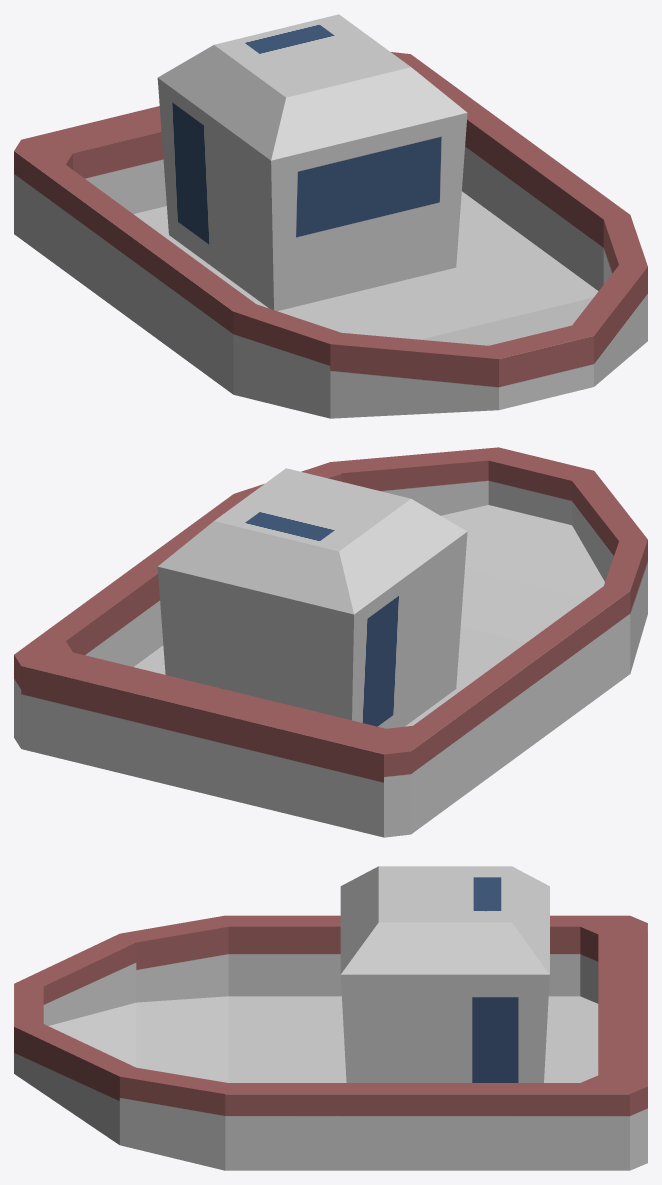
Rendered from Boat.fbx.
3 renders of one model, top to bottom at view 1: azimuth 30°, elevation 25°; view 2: azimuth 150°, elevation 25°; view 3: azimuth 270°, elevation 25°, orthographic. The views are drawn at different scales.
Visible parts, largest first — view 1: Boat; view 2: Boat; view 3: Boat.
Boxes of the visible parts, left/top/right/bottom form: Boat: left=14, top=14, right=647, bottom=418; Boat: left=14, top=447, right=647, bottom=837; Boat: left=14, top=866, right=647, bottom=1170.
Bounding box in the file's own units: 400 × 195 × 600.
1 material, 1 textured.
